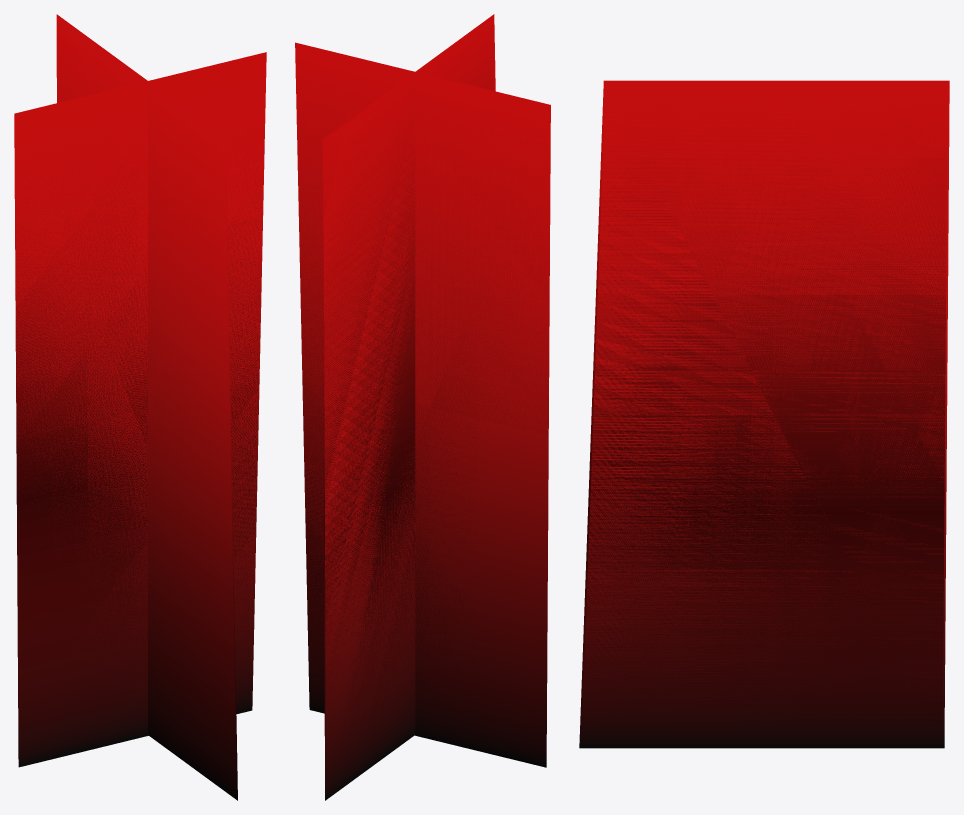
The model's file is Fir_08_Dead_Forest_LOD4.fbx.
3 renders of one model, left to right at view 1: azimuth 30°, elevation 25°; view 2: azimuth 150°, elevation 25°; view 3: azimuth 270°, elevation 25°, orthographic. The views are drawn at different scales.
Visible parts, largest first — view 1: Fir_08_Dead_Forest_LOD4; view 2: Fir_08_Dead_Forest_LOD4; view 3: Fir_08_Dead_Forest_LOD4.
Part boxes in pixels (<box>): Fir_08_Dead_Forest_LOD4: <box>14,14,266,800</box>; Fir_08_Dead_Forest_LOD4: <box>295,14,550,800</box>; Fir_08_Dead_Forest_LOD4: <box>579,80,949,748</box>.
Size of the model in its own units: 730 by 1809 by 909.
